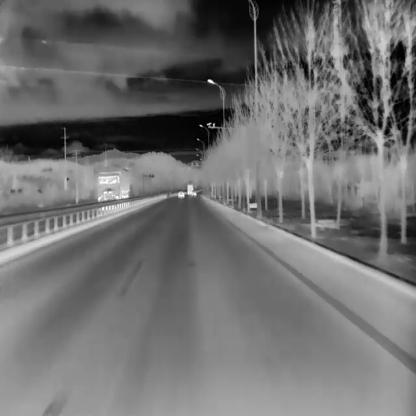car: (177, 190, 184, 198), (191, 189, 196, 195)
truck: (96, 166, 131, 206), (186, 184, 193, 195)
